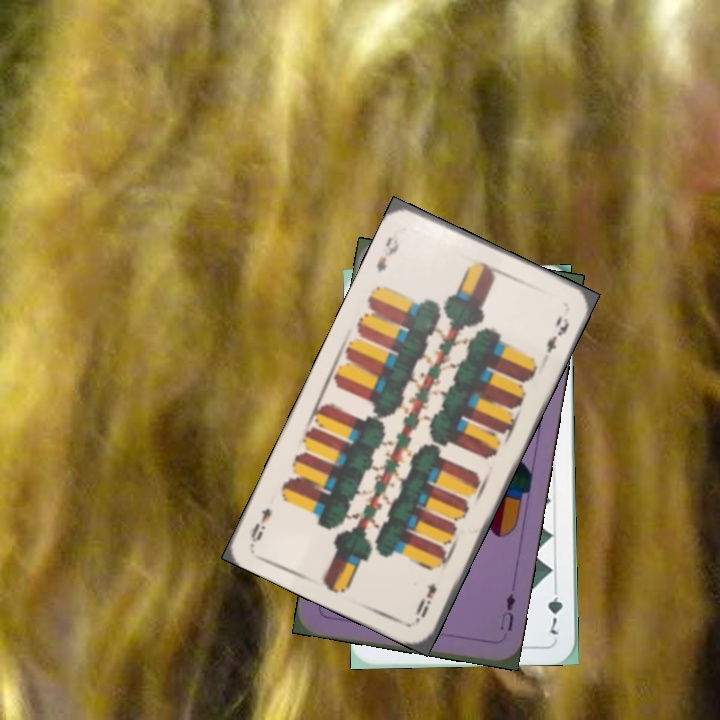E9: (372, 228, 404, 275), (411, 578, 439, 623)
EU: (496, 589, 518, 634)
G7: (543, 580, 565, 637)
